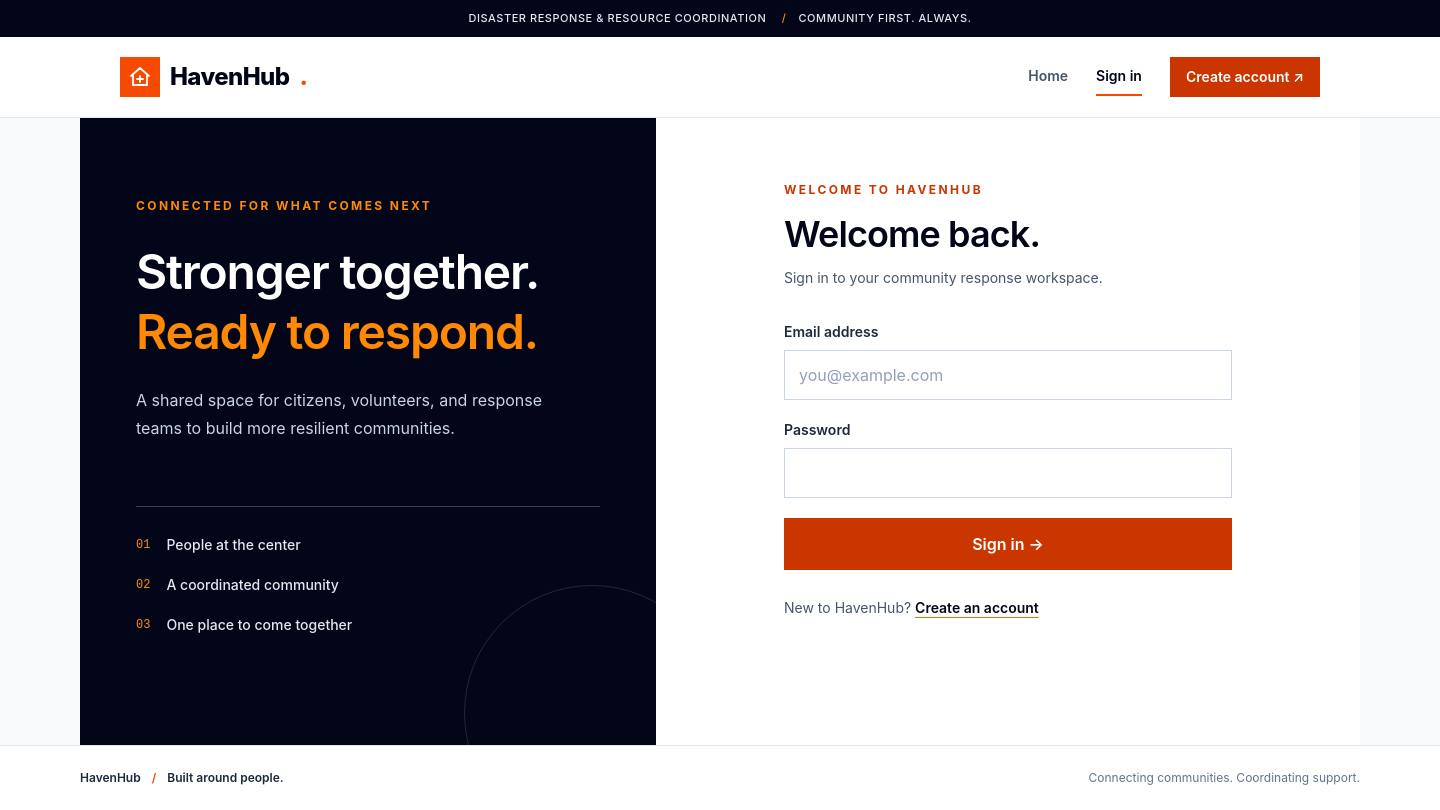
signs in, stores only the token, and opens the user dashboard
This screenshot has width=1440, height=810.
Type "asha@example.com" into the field labelled "Email address". click: point(1008, 374)
box: [784,350,1232,400]
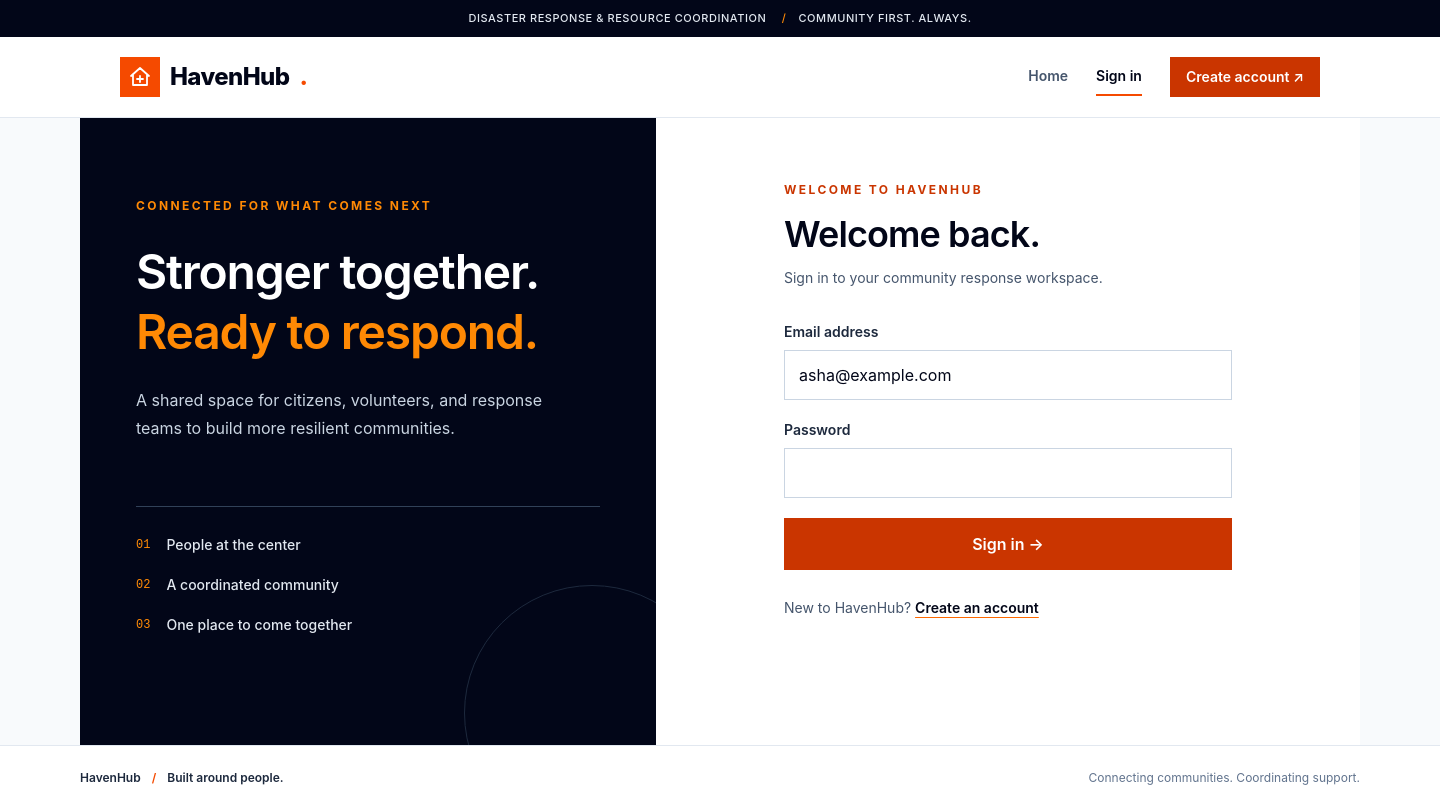
Type "Test password 123!" into the password field labelled "Password". click: point(1008, 472)
box: [784,448,1232,498]
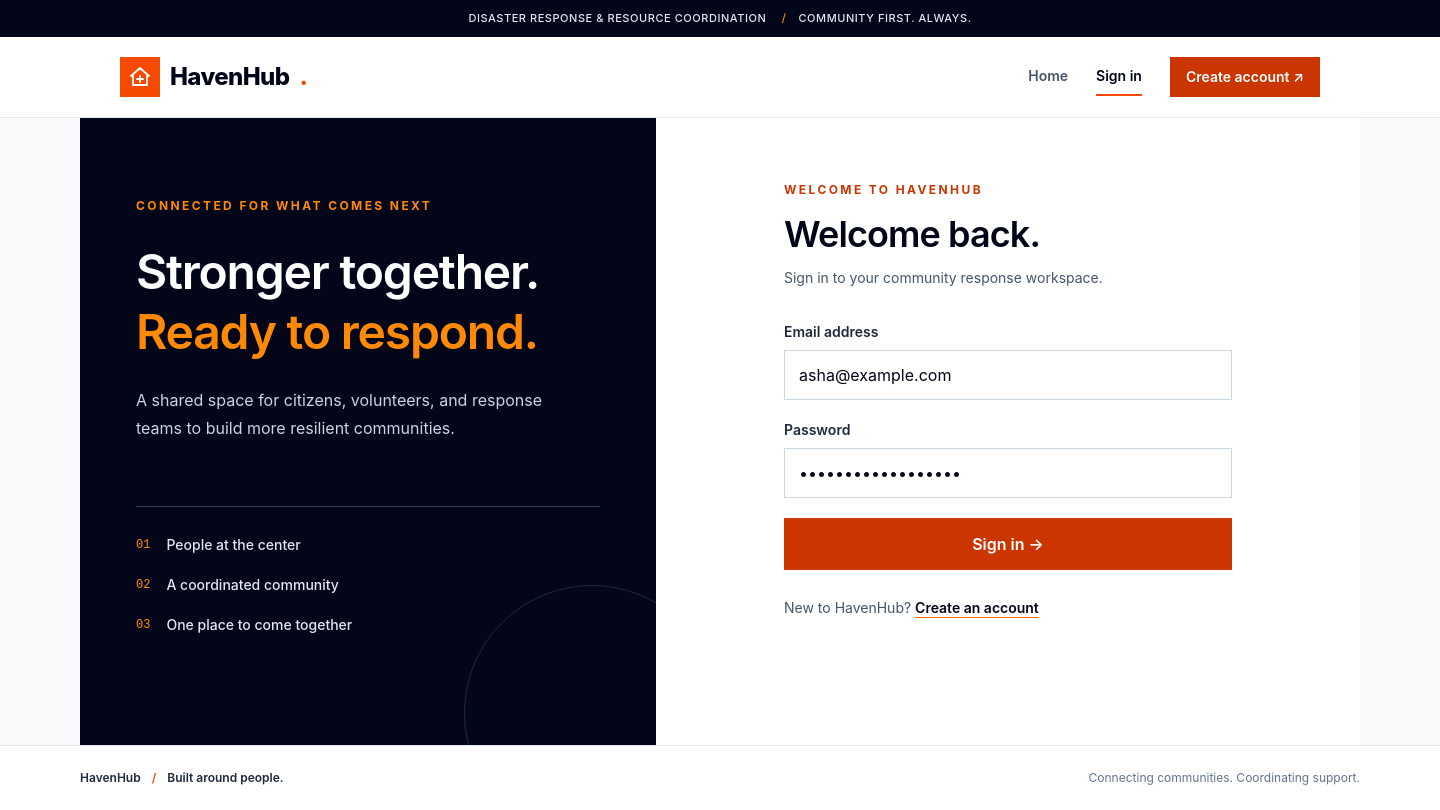
Click the button "Sign in →". click: point(1008, 544)
box: [784,518,1232,570]
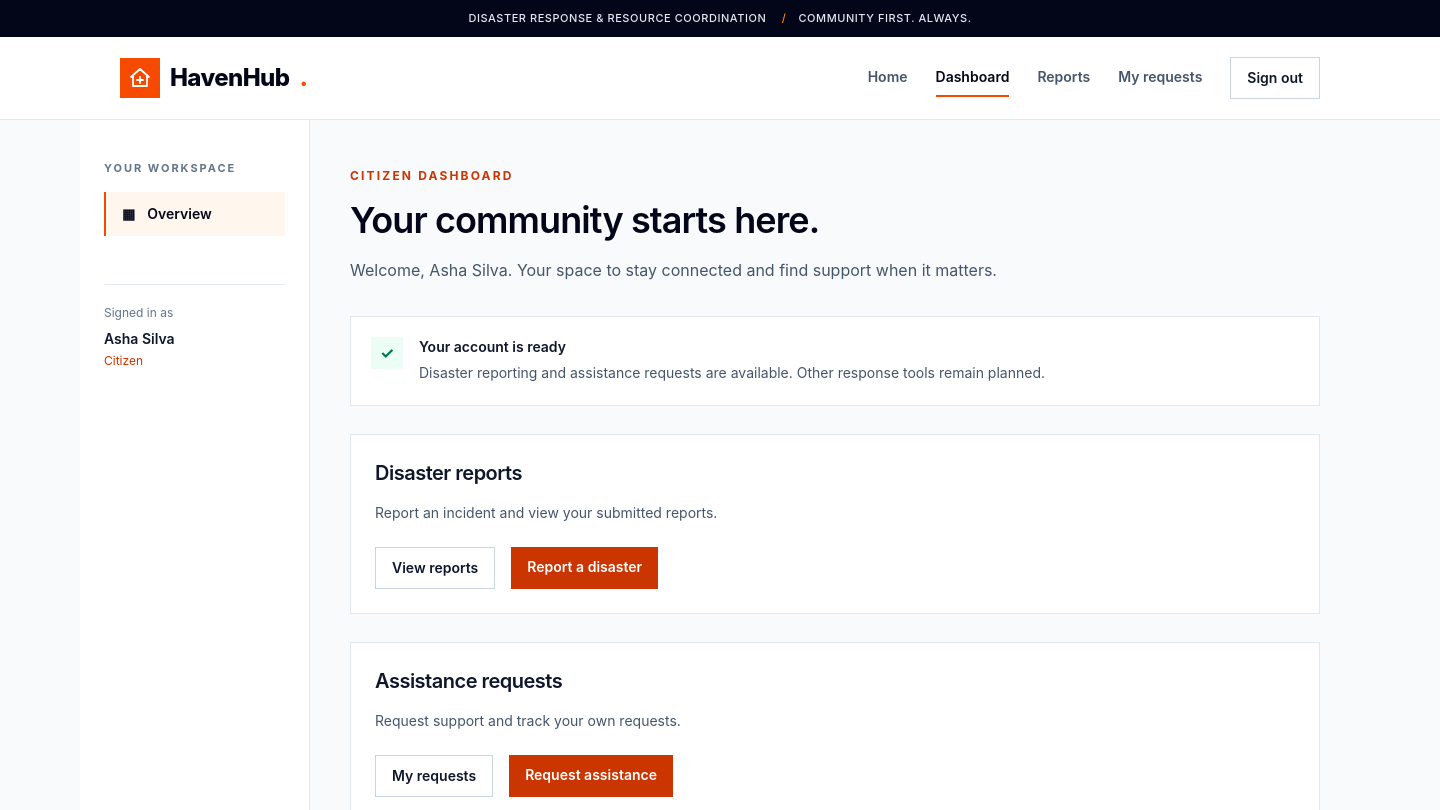
Expected: the heading "Your community starts here." is shown, [350,198,819,242]
